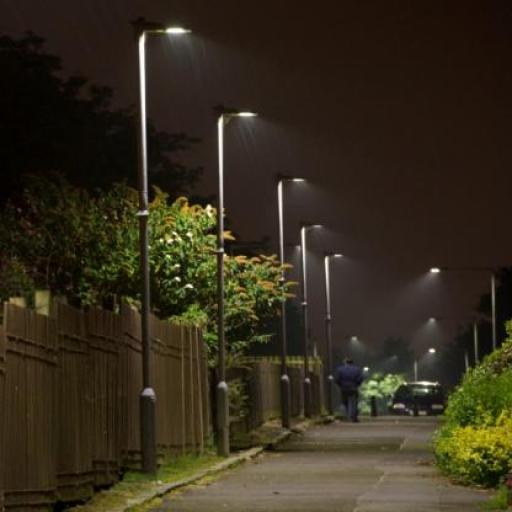street light: (136, 26, 192, 481), (214, 110, 259, 454), (431, 266, 499, 406), (276, 175, 309, 424), (299, 223, 326, 416), (428, 316, 480, 404), (314, 335, 356, 414), (427, 348, 470, 416), (324, 251, 342, 413)
